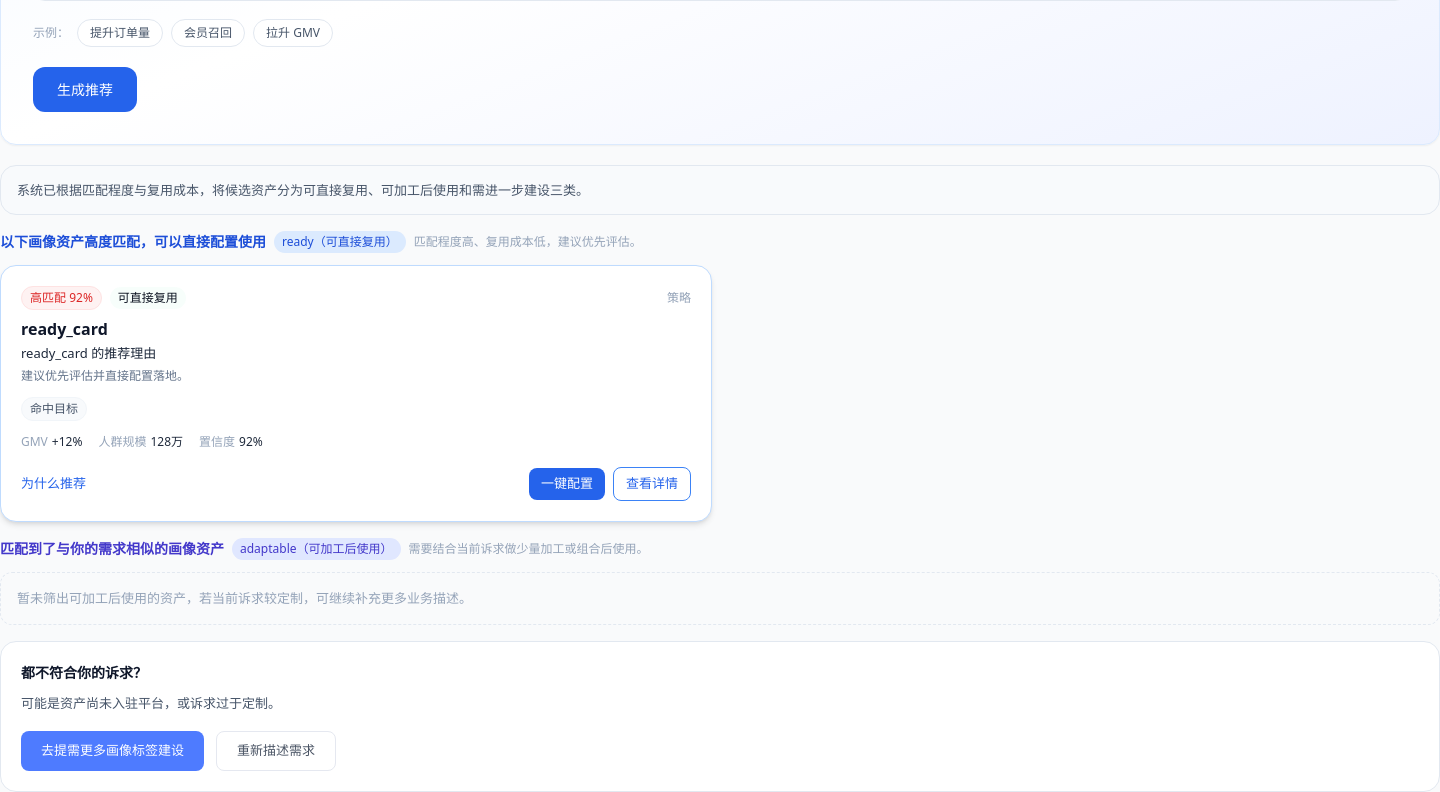
Scenario: RecommendationHomePanel › ready 卡片可直接复用一键配置弹窗完成配置
This screenshot has width=1440, height=792.
(page scrolled)
Click the button "一键配置" at (567, 484), box [529, 468, 605, 500]
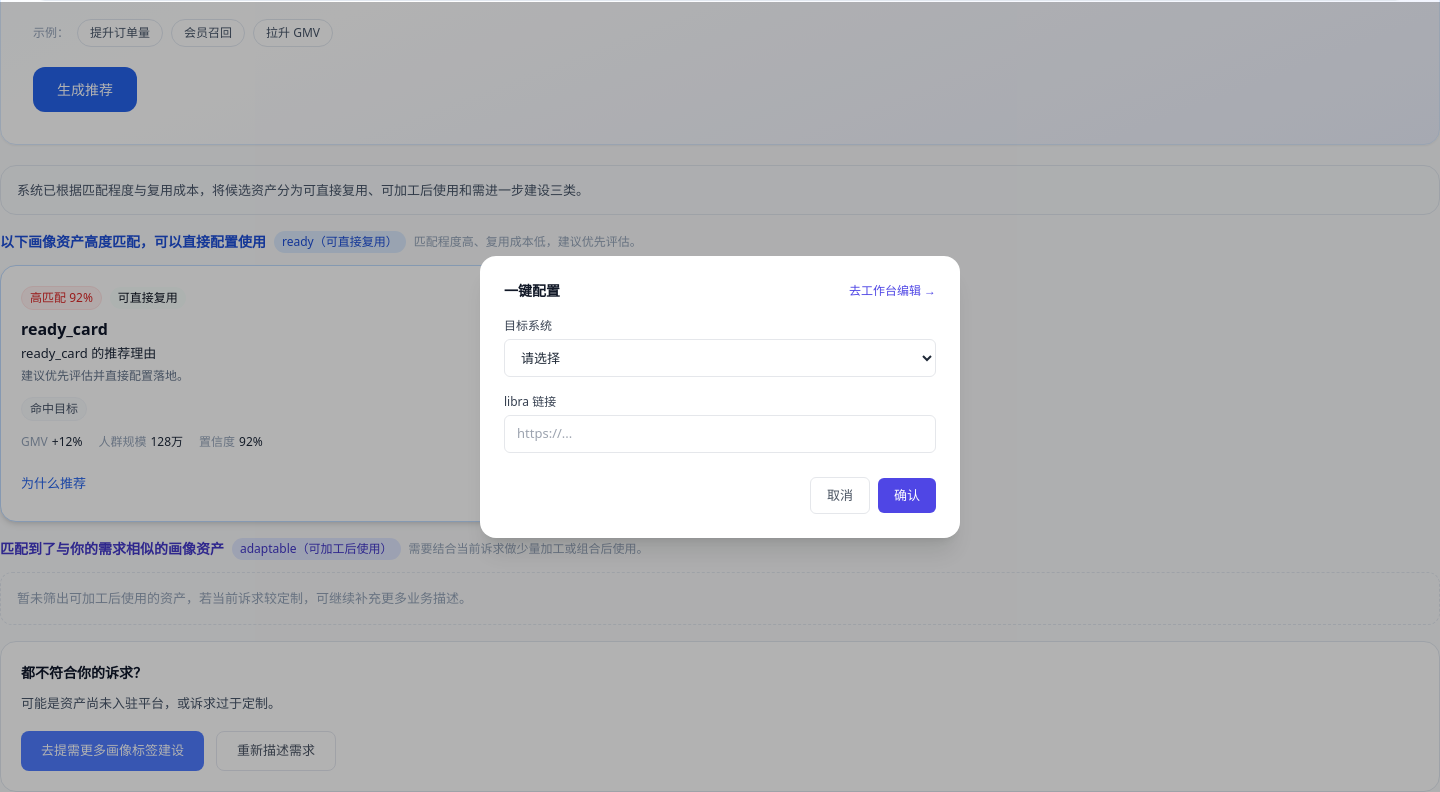
Expected: the dialog "一键配置" is shown, [480, 256, 960, 538]
Expected: the text "目标系统" is shown, [504, 317, 552, 334]
Select "生服 DMP（LDMP）" in the dropdown at (720, 358), box [504, 339, 936, 377]
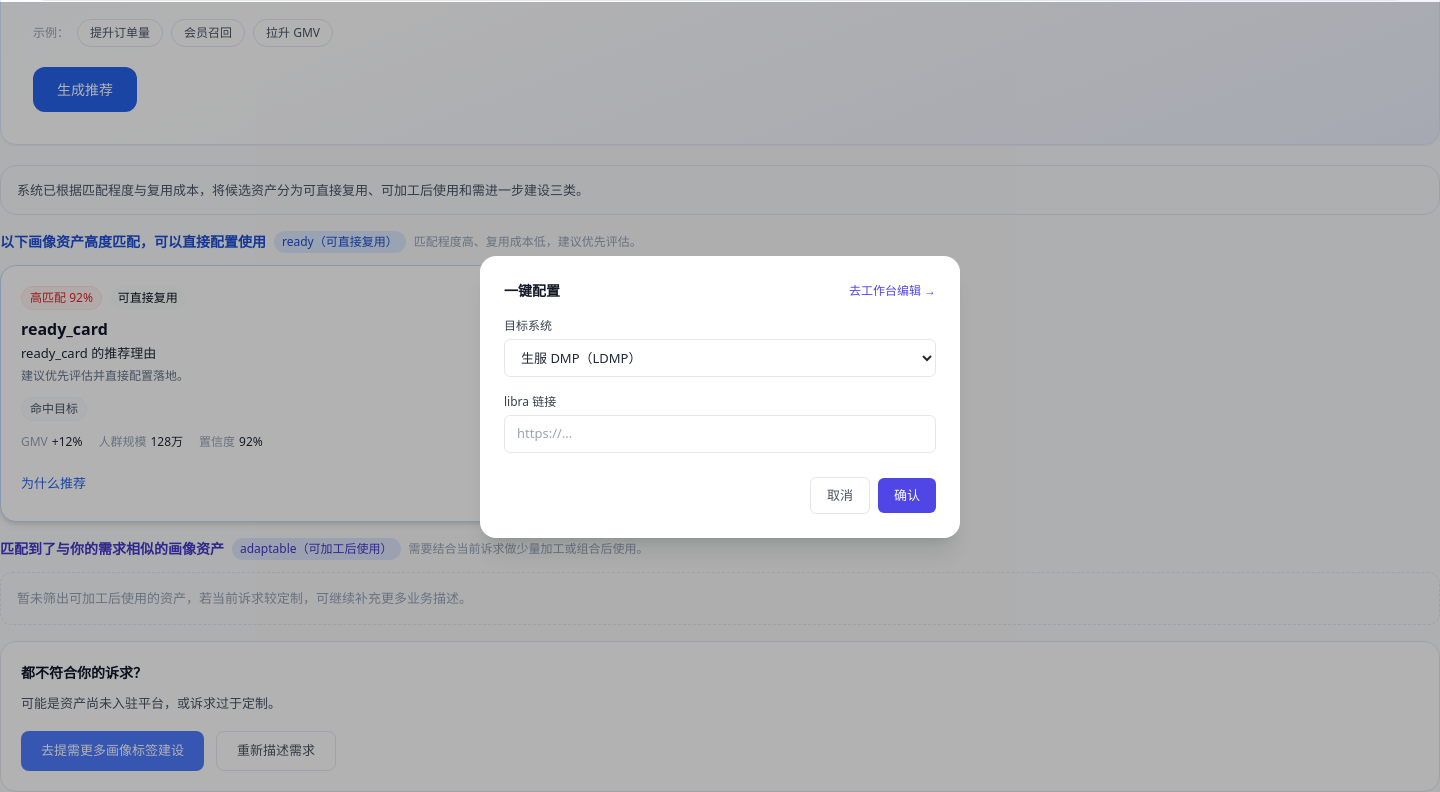
Type "https://example.com/libra/task" into the field with placeholder "https://..." at (720, 434), box [504, 415, 936, 452]
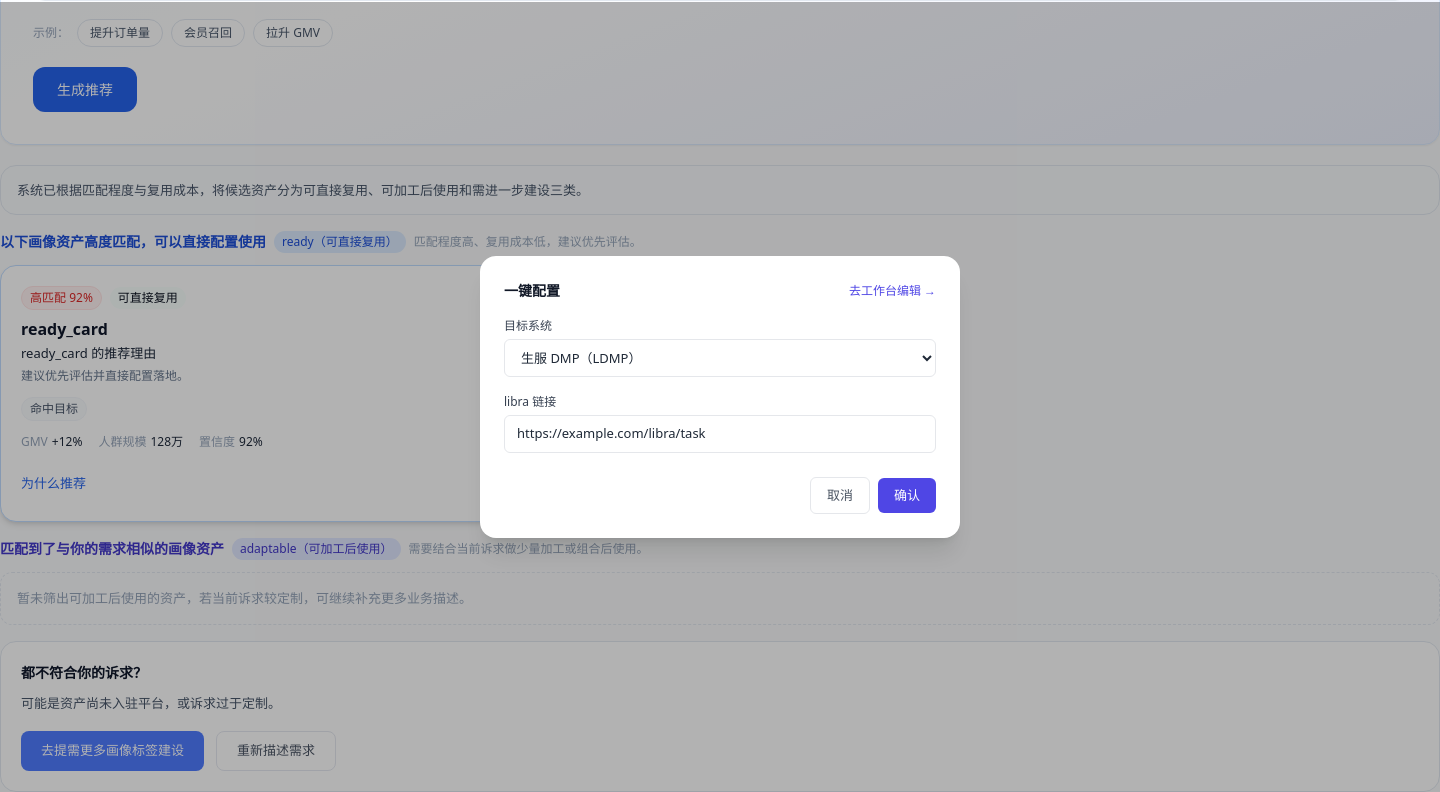
Click the button "确认" at (907, 495), box [878, 478, 936, 513]
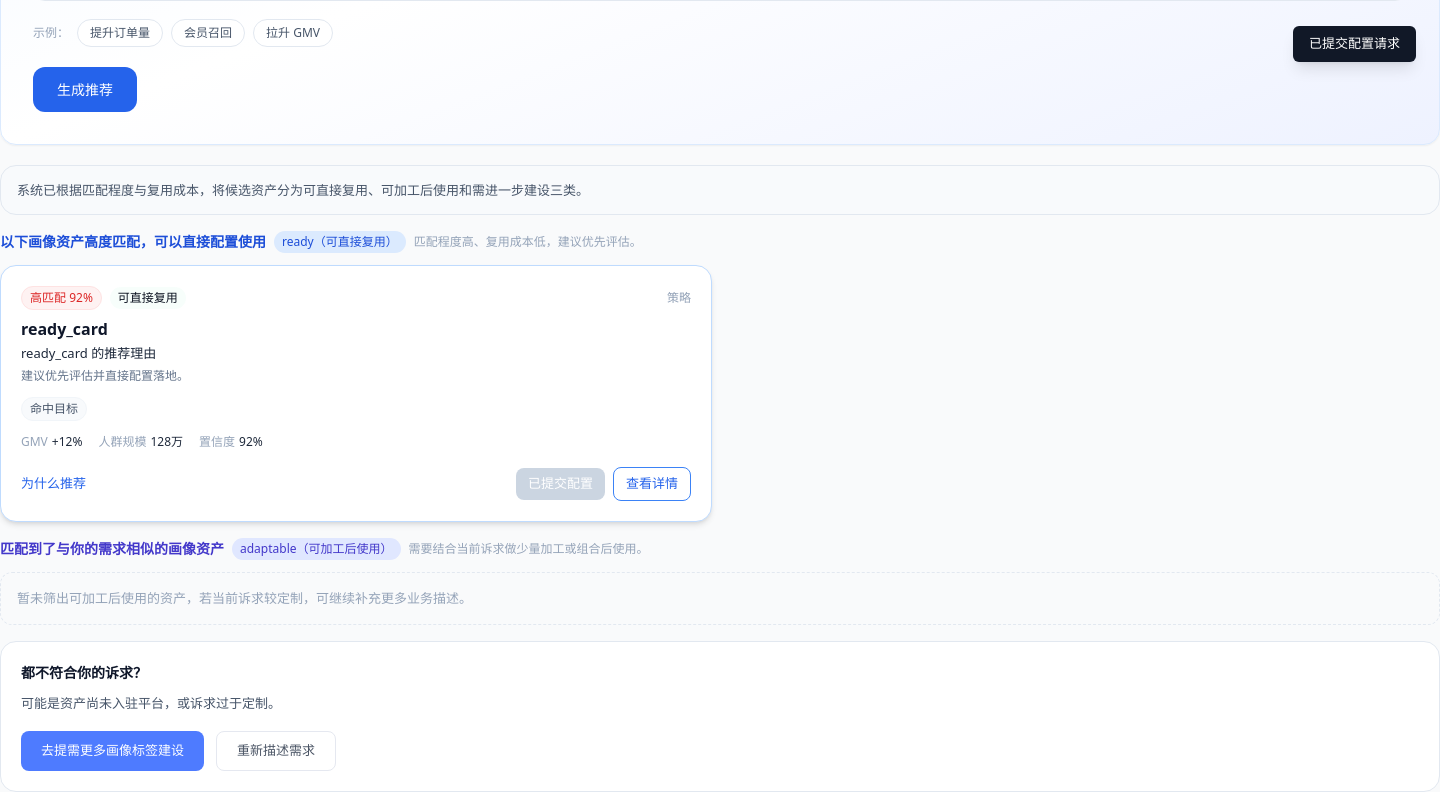
Expected: the text "已提交配置请求" is shown, [1293, 26, 1416, 62]
Expected: the button "已提交配置" is shown, [516, 468, 605, 500]
